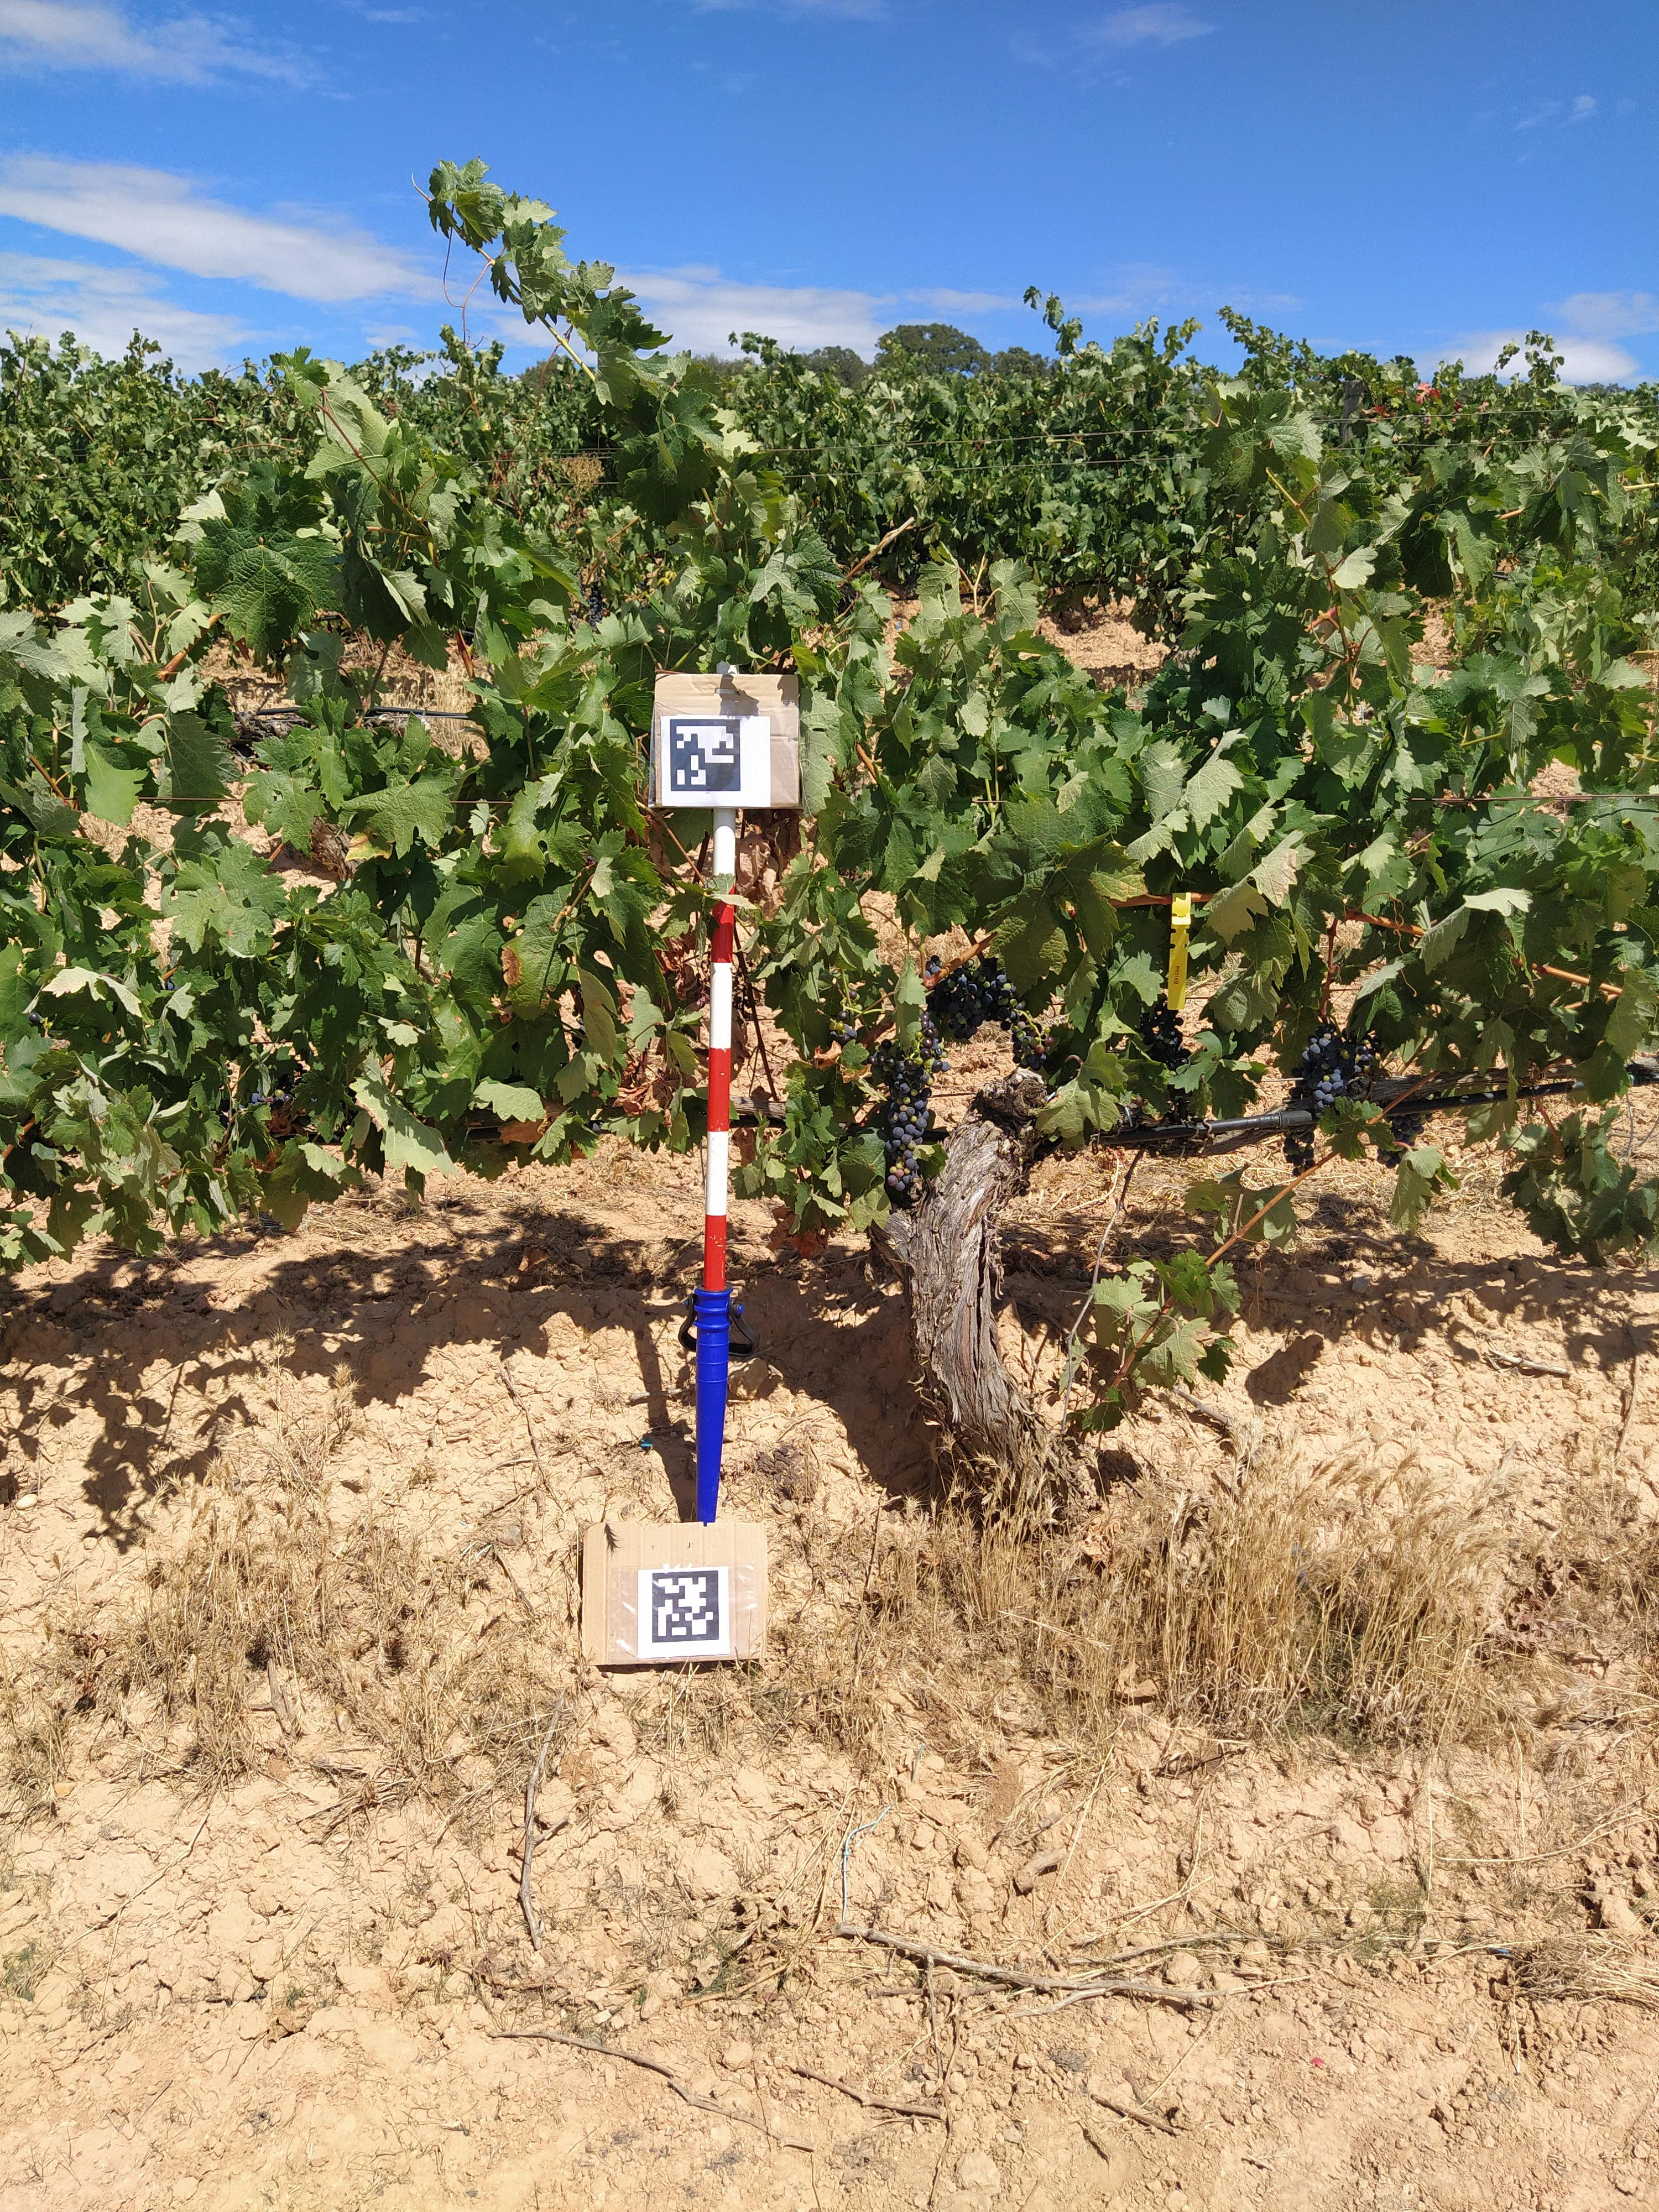0: (922, 954, 1053, 1066), (870, 1019, 945, 1193), (1293, 1022, 1373, 1108), (1138, 1001, 1188, 1066), (1377, 1115, 1434, 1163), (1283, 1130, 1314, 1176), (251, 1083, 295, 1111), (828, 1008, 857, 1040)
qr: (669, 719, 741, 792)
